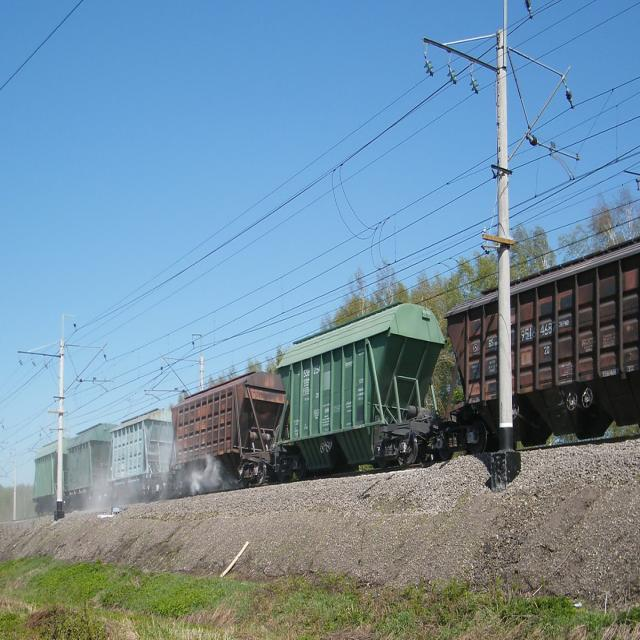hopper: (443, 220, 640, 468), (272, 278, 448, 487), (170, 358, 287, 501), (108, 401, 176, 508), (65, 418, 117, 513)
